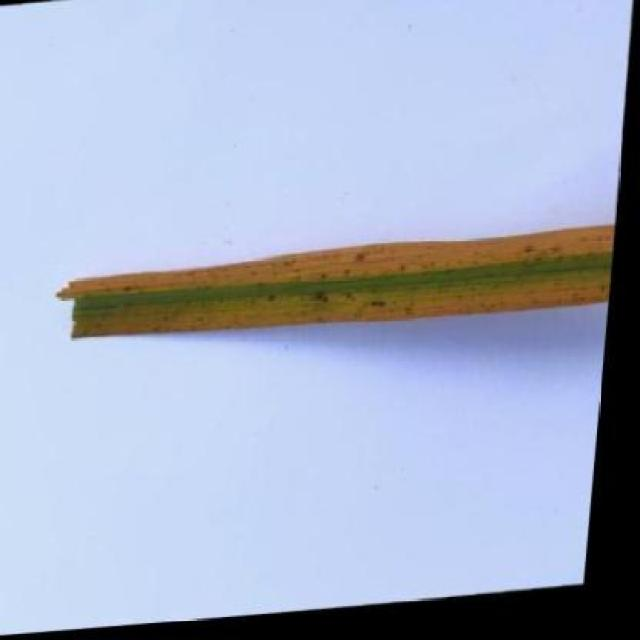Rice False Smut: (63, 235, 619, 339)
